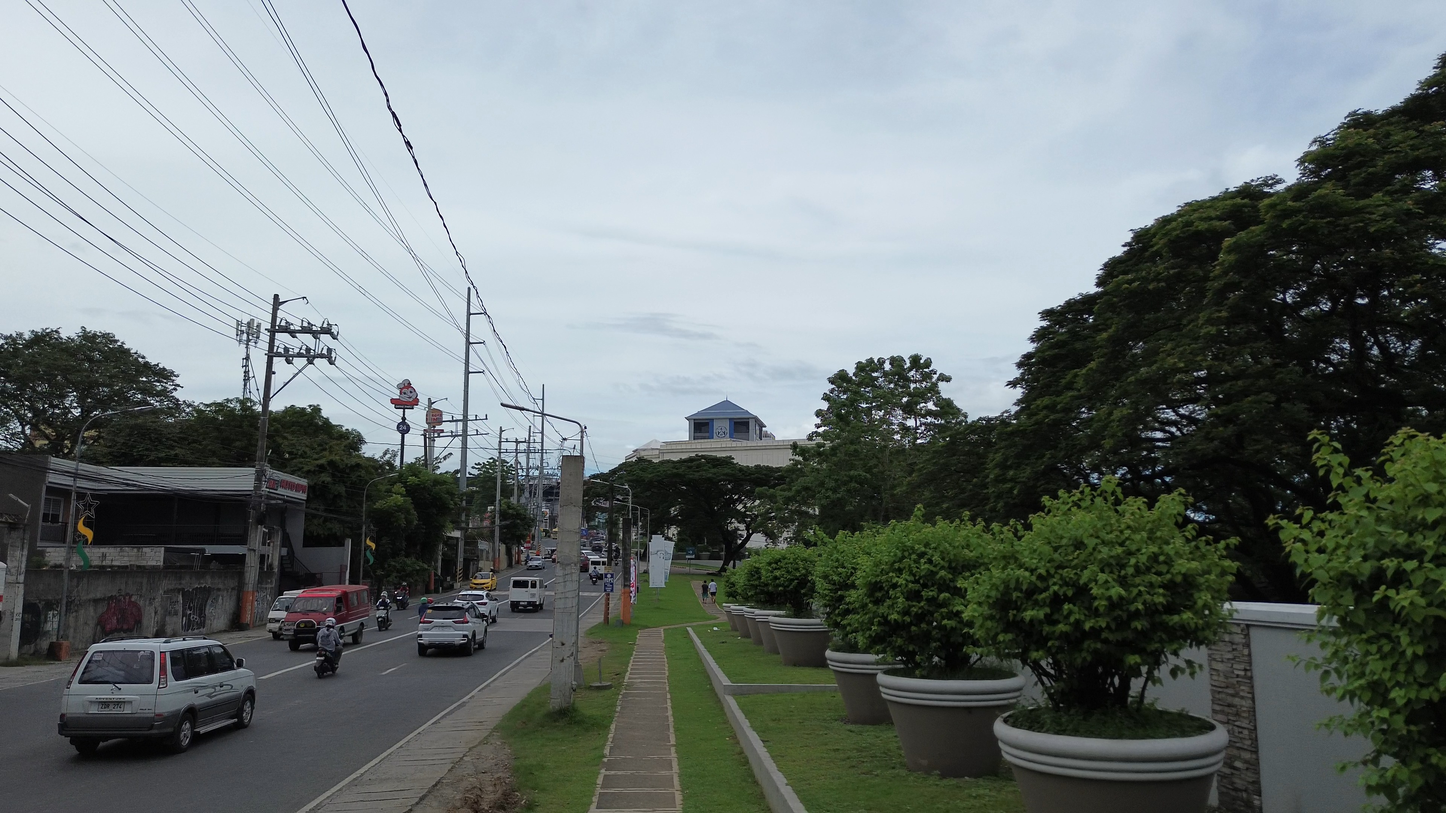motorcycle: (314, 648, 341, 678), (376, 608, 391, 631), (394, 595, 409, 609)
vehicle: (58, 636, 255, 754), (282, 585, 374, 650), (416, 602, 488, 655), (267, 590, 302, 639), (455, 590, 499, 623), (509, 576, 544, 612), (313, 648, 342, 678), (469, 571, 497, 590), (375, 608, 392, 631), (526, 555, 545, 569)
